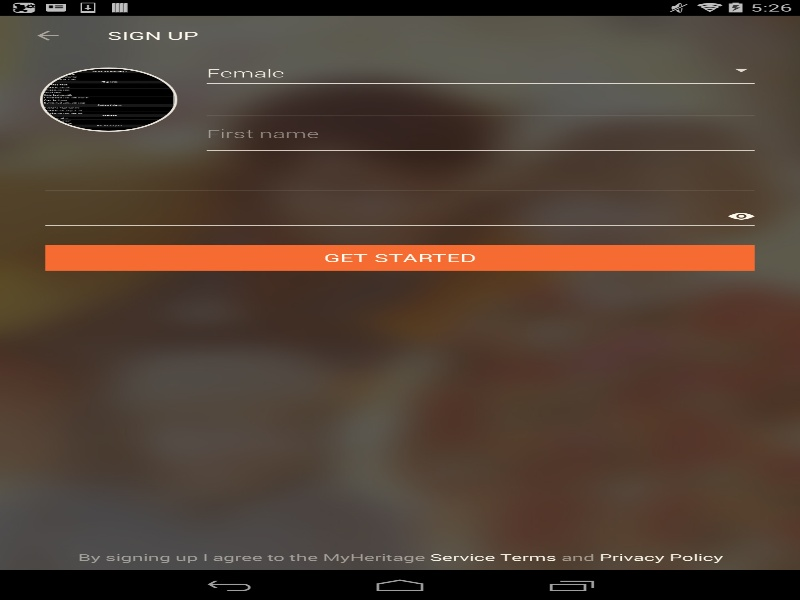Button: (45, 245, 754, 270), (10, 15, 85, 55)
Input: (40, 168, 760, 196), (40, 202, 760, 230), (201, 93, 760, 121), (201, 127, 760, 155)
